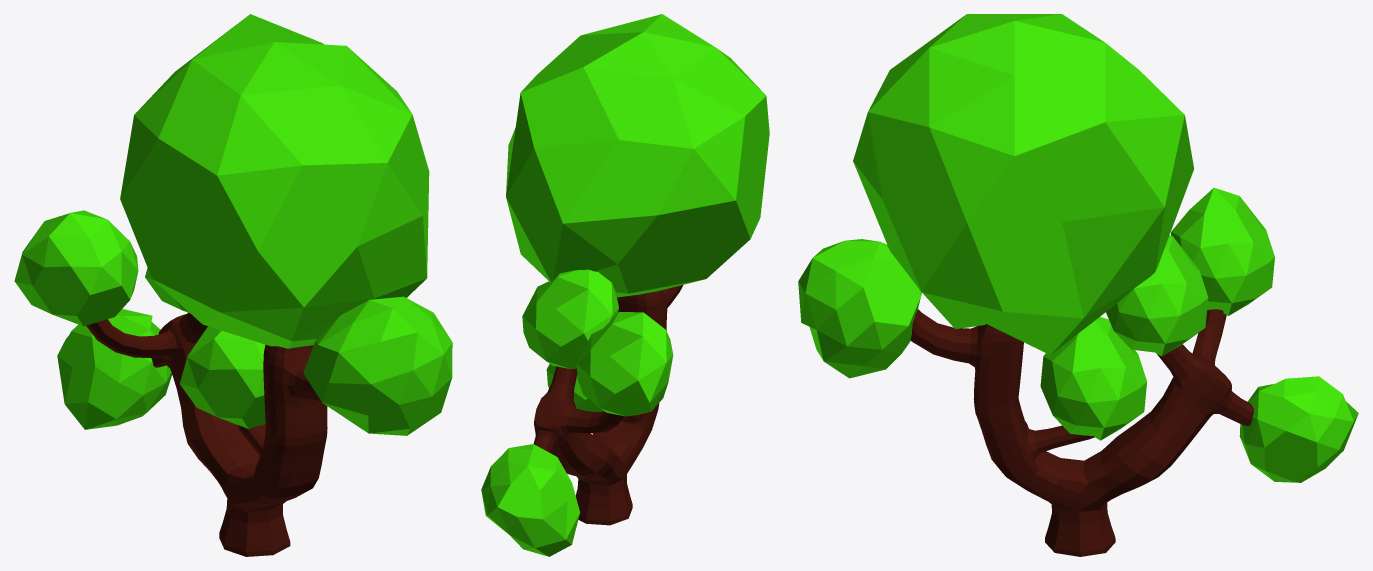
The model's file is tree_2.fbx.
The picture shows the model from 3 angles, left to right: view 1: azimuth 30°, elevation 25°; view 2: azimuth 150°, elevation 25°; view 3: azimuth 270°, elevation 25°; orthographic projection. The views are drawn at different scales.
Visible parts, largest first — view 1: Icosphere.010, Cube.001, Icosphere.005, Icosphere.007, Icosphere.009, Icosphere.006; view 2: Icosphere.010, Cube.001, Icosphere.009, Icosphere.007, Icosphere.008, Icosphere.006; view 3: Icosphere.010, Cube.001, Icosphere.005, Icosphere.009, Icosphere.006, Icosphere.007, Icosphere.008.
Boxes of the visible parts, x1,y1,x2,y2 form: Icosphere.010: (120, 14, 429, 348); Cube.001: (86, 312, 327, 556); Icosphere.005: (303, 296, 452, 435); Icosphere.007: (14, 210, 138, 326); Icosphere.009: (57, 309, 172, 429); Icosphere.006: (180, 326, 265, 428); Icosphere.010: (506, 14, 769, 297); Cube.001: (533, 285, 683, 525); Icosphere.009: (481, 444, 579, 556); Icosphere.007: (576, 312, 673, 416); Icosphere.008: (522, 269, 618, 369); Icosphere.006: (546, 364, 603, 411); Icosphere.010: (853, 14, 1193, 354); Cube.001: (910, 309, 1253, 556); Icosphere.005: (798, 239, 921, 378); Icosphere.009: (1239, 376, 1358, 482); Icosphere.006: (1040, 317, 1146, 440); Icosphere.007: (1171, 187, 1274, 315); Icosphere.008: (1106, 235, 1208, 356).
Bounding box in the file's own units: 1670 × 3128 × 3082.
